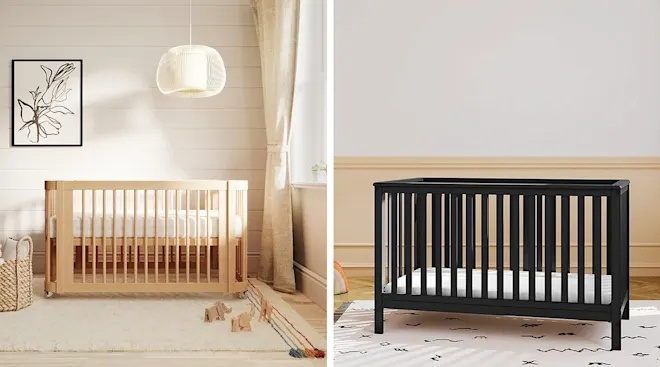crib: (374, 178, 628, 349), (45, 180, 247, 294)
